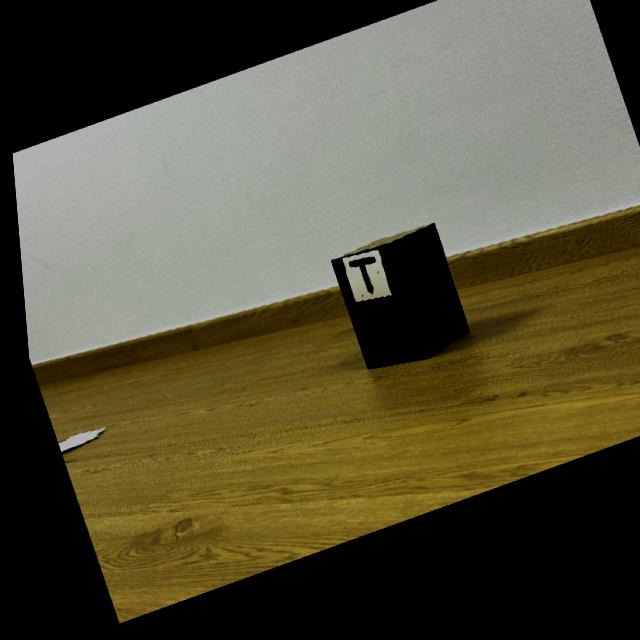T: (344, 264, 371, 301)
